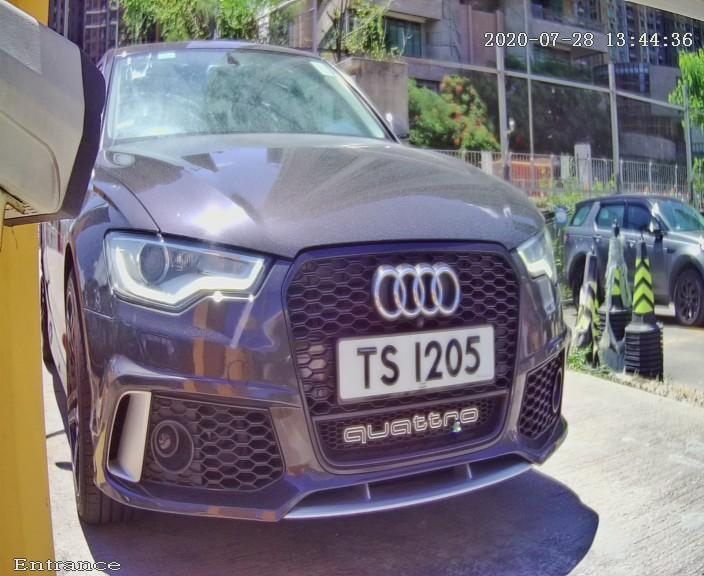privatecar: (16, 13, 626, 566)
